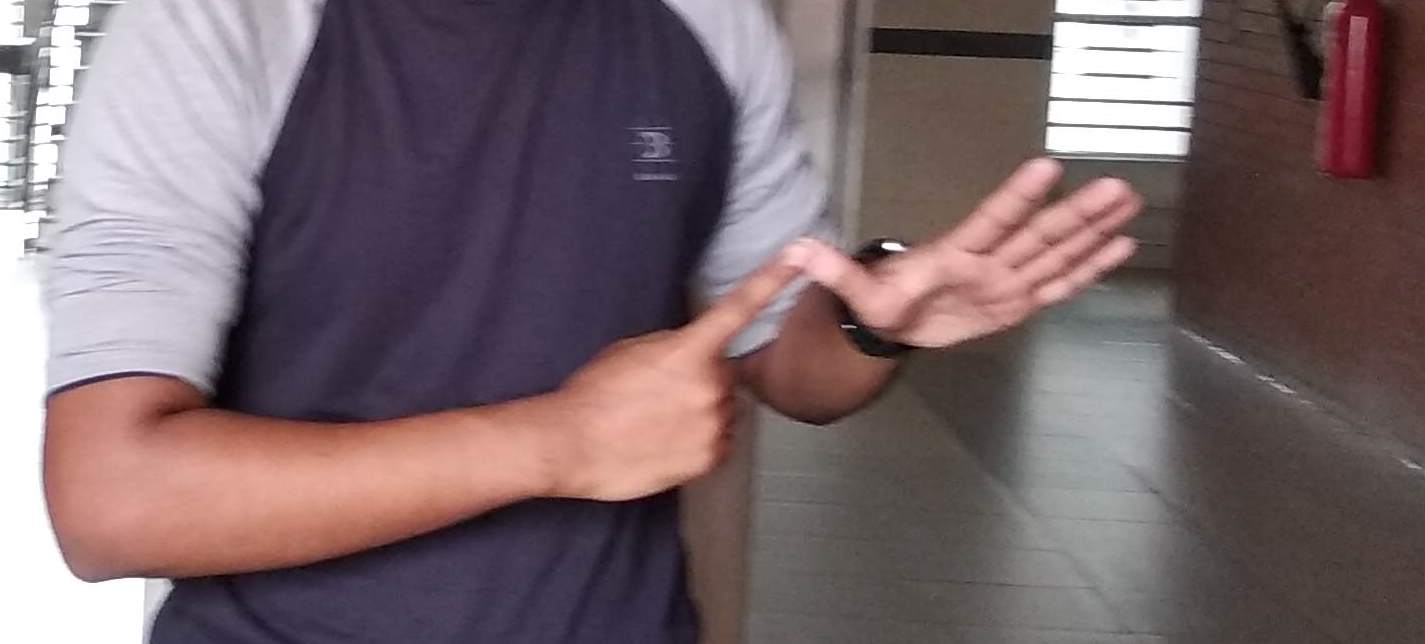a: (617, 156, 1139, 520)
